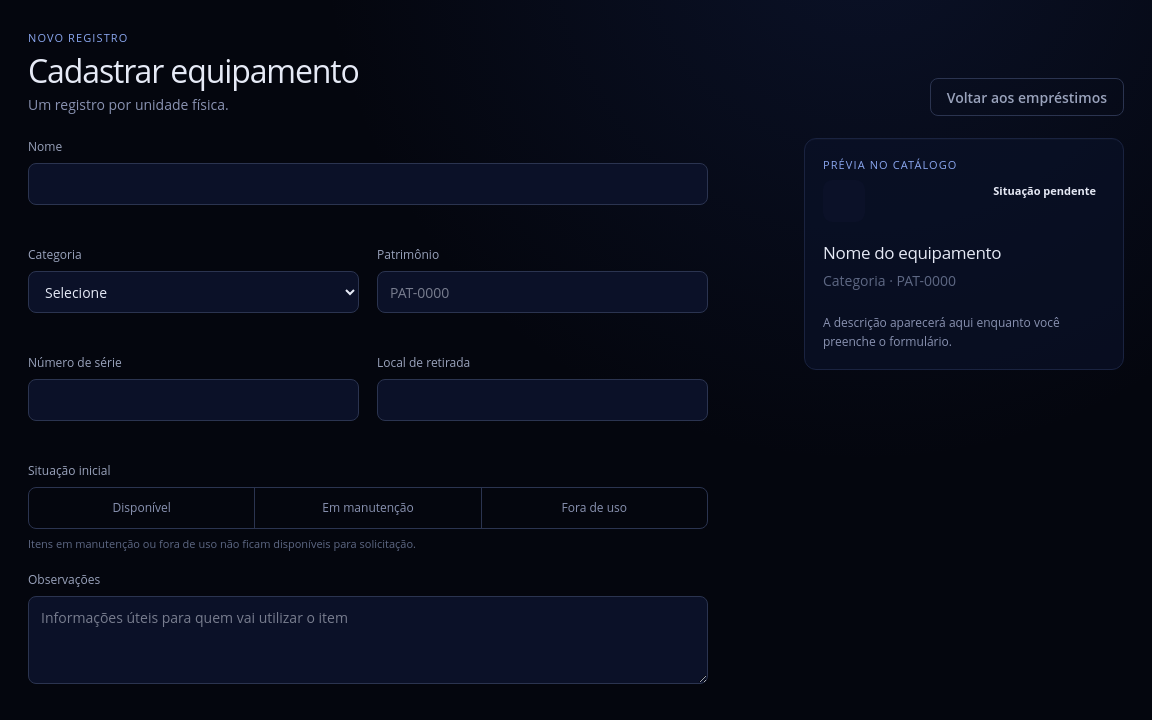
Test: EquipmentForm › atualiza a prévia enquanto o nome é digitado
Type "Notebook de teste" into the field labelled "Nome" at (368, 184), box [28,163,708,205]
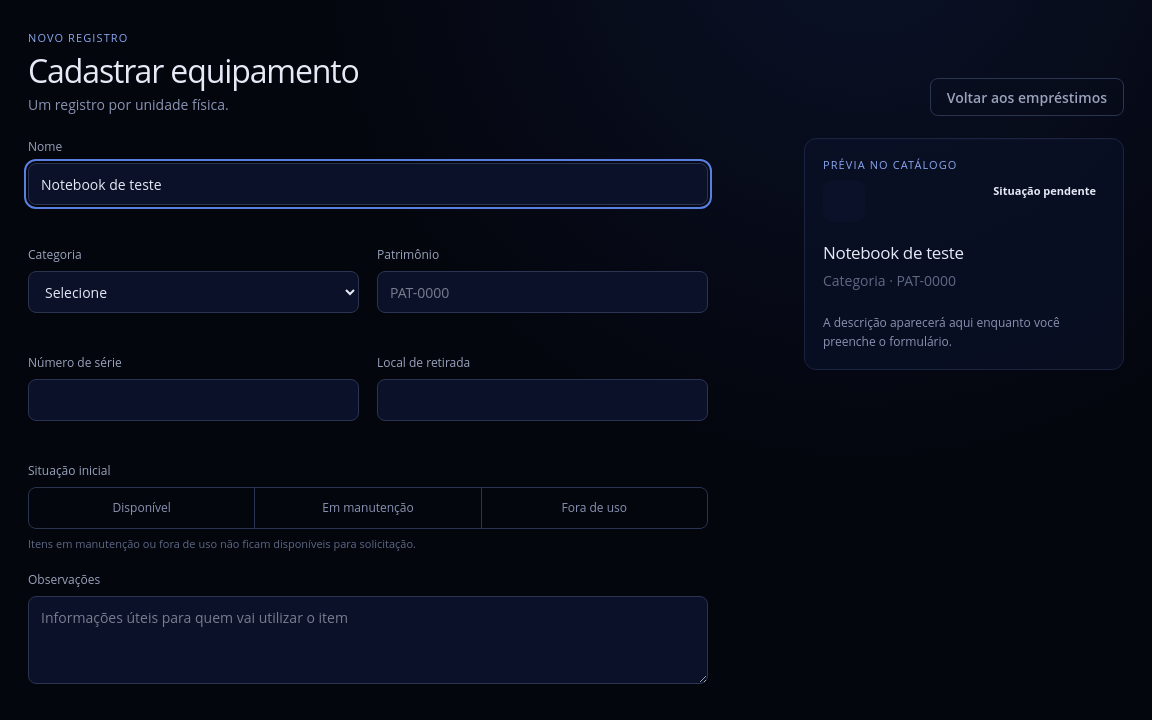
Expected: the heading "Notebook de teste" is shown, [823,241,964,264]
